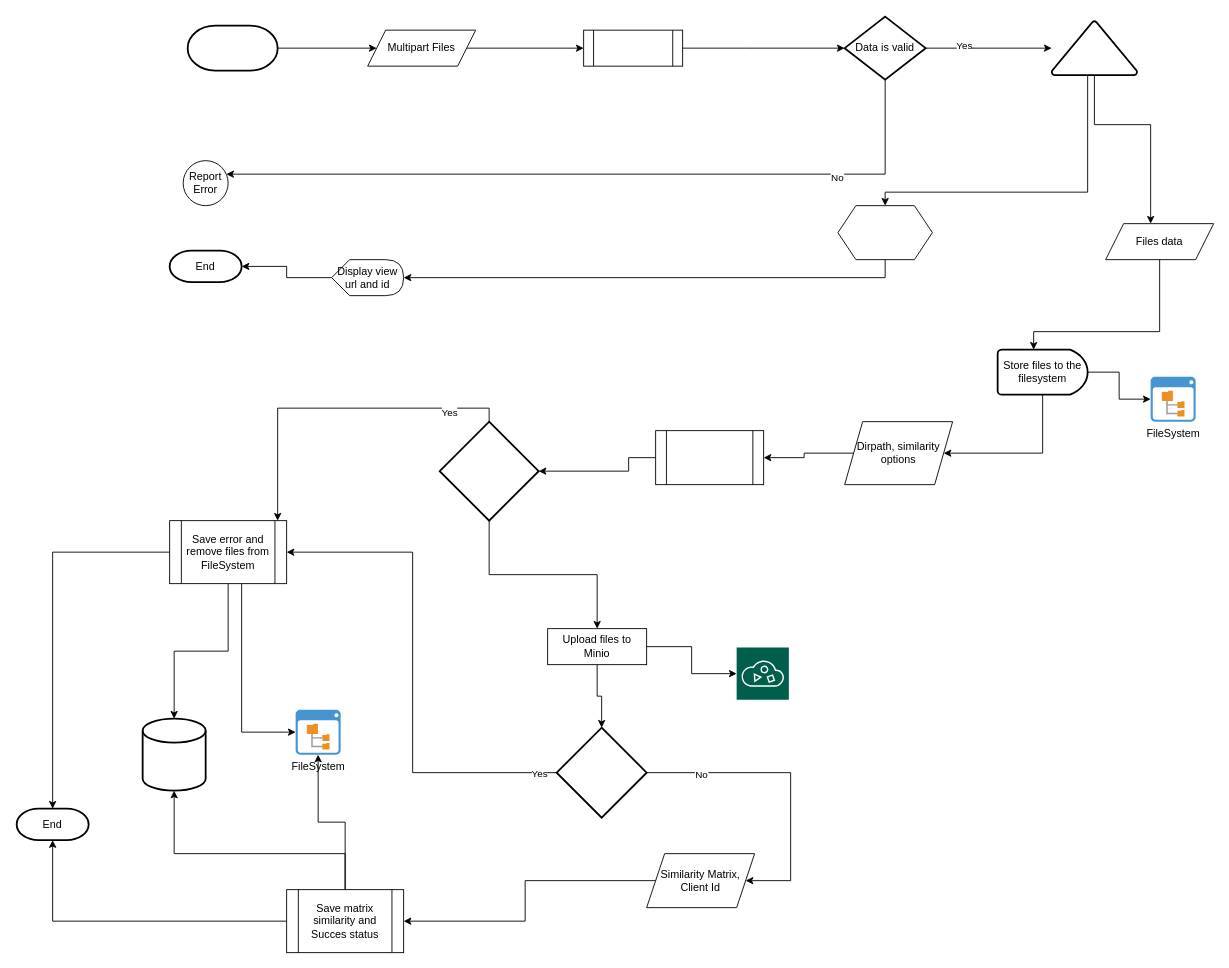
Image size: 1229x968. Some labels were removed from this diagram. Each missing label, with the centre of its shape:
"Check data validity" belongs at point 633,47.
"Client uploads group of files" belongs at point 232,47.
"Compute texts similarity" belongs at point 709,457.
"Minio error happened" belongs at point 601,772.
"Prepare unique identifier" belongs at point 884,232.
"Python error happened" belongs at point 488,470.
"User's metadata" belongs at point 173,754.
